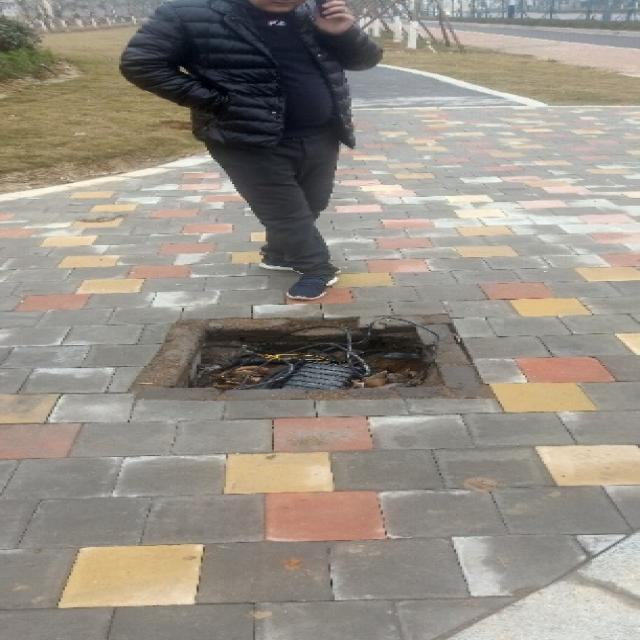Faulty: (167, 324, 454, 390)
